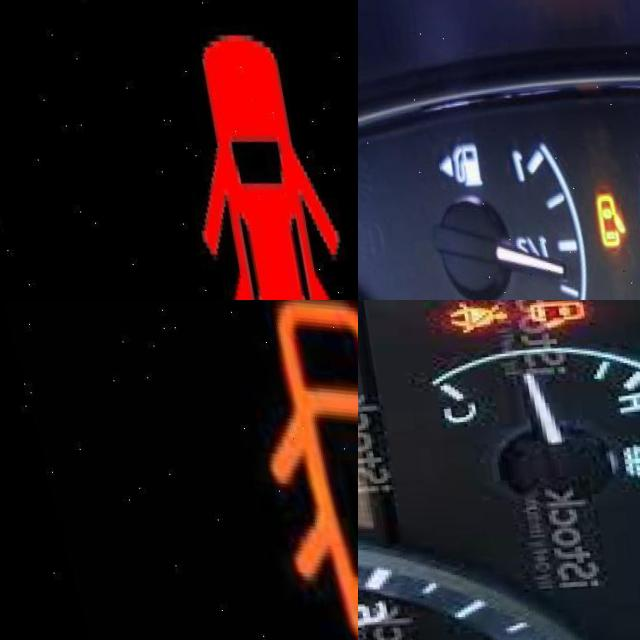Seat Belt: (427, 306, 504, 338)
